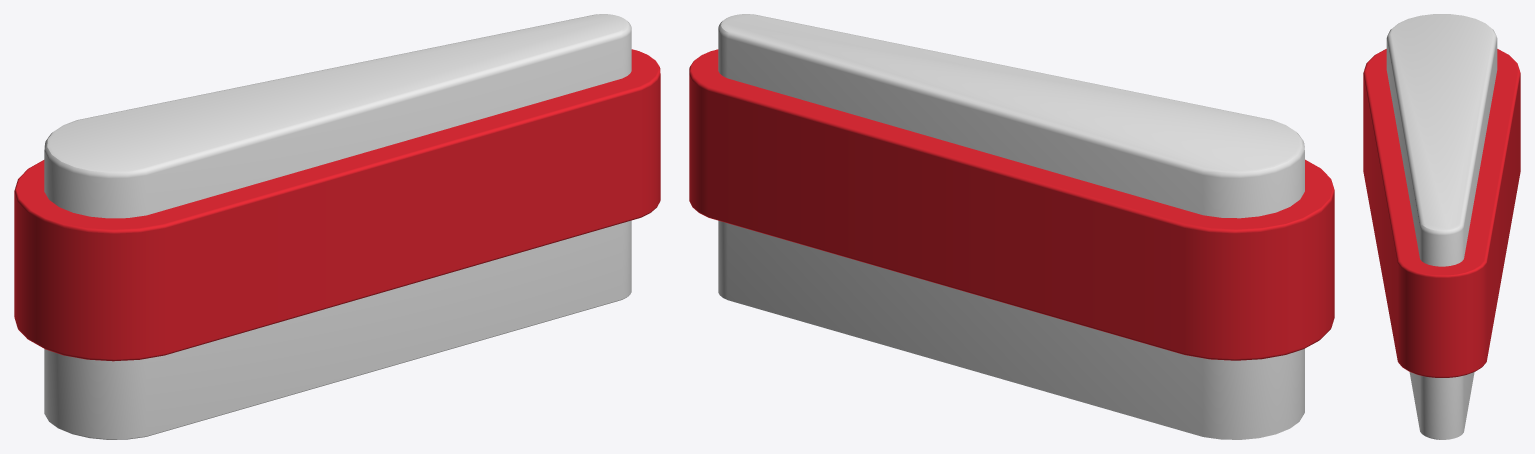
Rendered from Flipper, Generic (2.25in) - Hipoly.fbx.
3 renders of one model, left to right at view 1: azimuth 30°, elevation 25°; view 2: azimuth 150°, elevation 25°; view 3: azimuth 270°, elevation 25°, orthographic. The views are drawn at different scales.
Parts seen in each view (by area): view 1: Flipper, Generic (2-1/4"); view 2: Flipper, Generic (2-1/4"); view 3: Flipper, Generic (2-1/4").
Part boxes in pixels (x1,y1,x2,y2): Flipper, Generic (2-1/4"): (14,14,660,439); Flipper, Generic (2-1/4"): (689,14,1334,439); Flipper, Generic (2-1/4"): (1363,14,1520,439).
Bounding box in the file's own units: 6.22 × 2.54 × 1.74.
